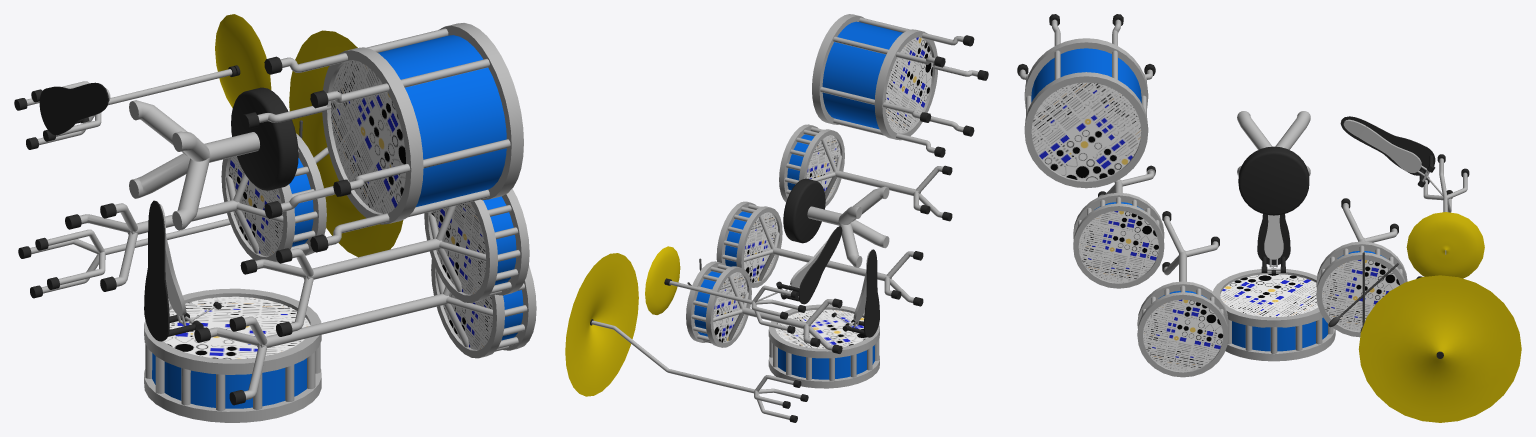
The model's file is Drum_Set.glb.
3 views of the same model, side by side, from view 1: azimuth 30°, elevation 25°; view 2: azimuth 150°, elevation 25°; view 3: azimuth 270°, elevation 25° (orthographic). The views are drawn at different scales.
Visible parts, largest first — view 1: Floor_Tom_Metal_Gray_0, Floor_Tom_Blue_0, Kick_Metal_Gray_0, Tom2_Metal_Gray_0, Floor_Tom_Material_0, Tom1_Metal_Gray_0, Snare_Metal_Gray_0, Crash_Metal_Gold_0, Stool_Metal_Gray_0, Kick_Material_0, Stool_Black_0, Kick_Blue_0 (+18 smaller); view 2: Crash_Metal_Gold_0, Floor_Tom_Metal_Gray_0, Floor_Tom_Blue_0, Snare_Metal_Gray_0, Tom1_Metal_Gray_0, Kick_Metal_Gray_0, Tom2_Metal_Gray_0, Floor_Tom_Material_0, Stool_Metal_Gray_0, Kick_Material_0, Stool_Black_0, Hi-Hat_Metal_Gold_0 (+13 smaller); view 3: Crash_Metal_Gold_0, Floor_Tom_Material_0, Floor_Tom_Metal_Gray_0, Tom1_Material_0, Tom2_Material_0, Hi-Hat_Metal_Gold_0, Stool_Black_0, Kick_Metal_Gray_0, Tom1_Metal_Gray_0, Kick_Material_0, Snare_Material_0, Tom2_Metal_Gray_0 (+10 smaller).
Part boxes in pixels (bbox=[...]): Floor_Tom_Metal_Gray_0: bbox=[257, 23, 523, 245]; Floor_Tom_Blue_0: bbox=[378, 35, 506, 206]; Kick_Metal_Gray_0: bbox=[144, 288, 321, 422]; Tom2_Metal_Gray_0: bbox=[255, 188, 529, 331]; Floor_Tom_Material_0: bbox=[331, 60, 405, 213]; Tom1_Metal_Gray_0: bbox=[209, 259, 536, 399]; Snare_Metal_Gray_0: bbox=[79, 133, 326, 286]; Crash_Metal_Gold_0: bbox=[289, 30, 403, 257]; Stool_Metal_Gray_0: bbox=[129, 100, 259, 230]; Kick_Material_0: bbox=[164, 296, 310, 359]; Stool_Black_0: bbox=[231, 87, 298, 190]; Kick_Blue_0: bbox=[152, 353, 306, 408]; Crash_Metal_Gold_0: bbox=[565, 253, 638, 396]; Floor_Tom_Metal_Gray_0: bbox=[812, 14, 978, 153]; Floor_Tom_Blue_0: bbox=[822, 21, 902, 129]; Snare_Metal_Gray_0: bbox=[686, 261, 833, 350]; Tom1_Metal_Gray_0: bbox=[716, 201, 913, 303]; Kick_Metal_Gray_0: bbox=[768, 304, 879, 388]; Tom2_Metal_Gray_0: bbox=[779, 124, 942, 217]; Floor_Tom_Material_0: bbox=[885, 37, 932, 133]; Stool_Metal_Gray_0: bbox=[807, 186, 889, 267]; Kick_Material_0: bbox=[775, 309, 867, 348]; Stool_Black_0: bbox=[783, 178, 825, 243]; Hi-Hat_Metal_Gold_0: bbox=[645, 246, 680, 314]; Crash_Metal_Gold_0: bbox=[1358, 275, 1521, 422]; Floor_Tom_Material_0: bbox=[1031, 82, 1141, 180]; Floor_Tom_Metal_Gray_0: bbox=[1019, 19, 1152, 188]; Tom1_Material_0: bbox=[1143, 299, 1223, 371]; Tom2_Material_0: bbox=[1078, 211, 1158, 282]; Hi-Hat_Metal_Gold_0: bbox=[1406, 212, 1484, 278]; Stool_Black_0: bbox=[1238, 146, 1309, 215]; Kick_Metal_Gray_0: bbox=[1213, 268, 1335, 361]; Tom1_Metal_Gray_0: bbox=[1137, 216, 1228, 377]; Kick_Material_0: bbox=[1220, 274, 1318, 317]; Snare_Material_0: bbox=[1322, 259, 1399, 331]; Tom2_Metal_Gray_0: bbox=[1073, 169, 1164, 288].
Bounding box in the file's own units: 3.52 × 4.46 × 6.7.
Materials: 6 (1 with a texture image).
